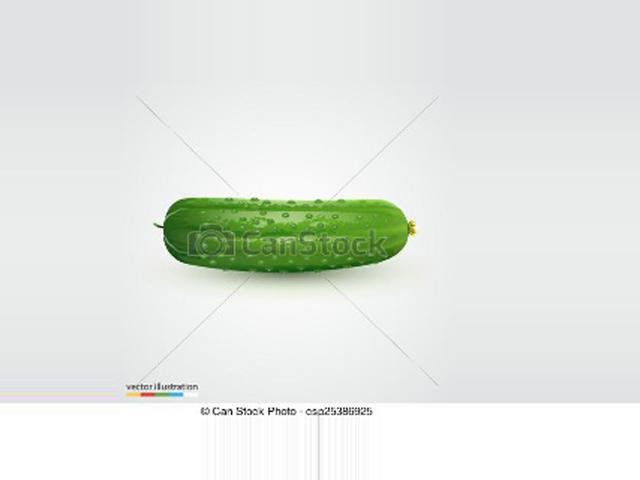cucumber: (153, 196, 417, 271)
